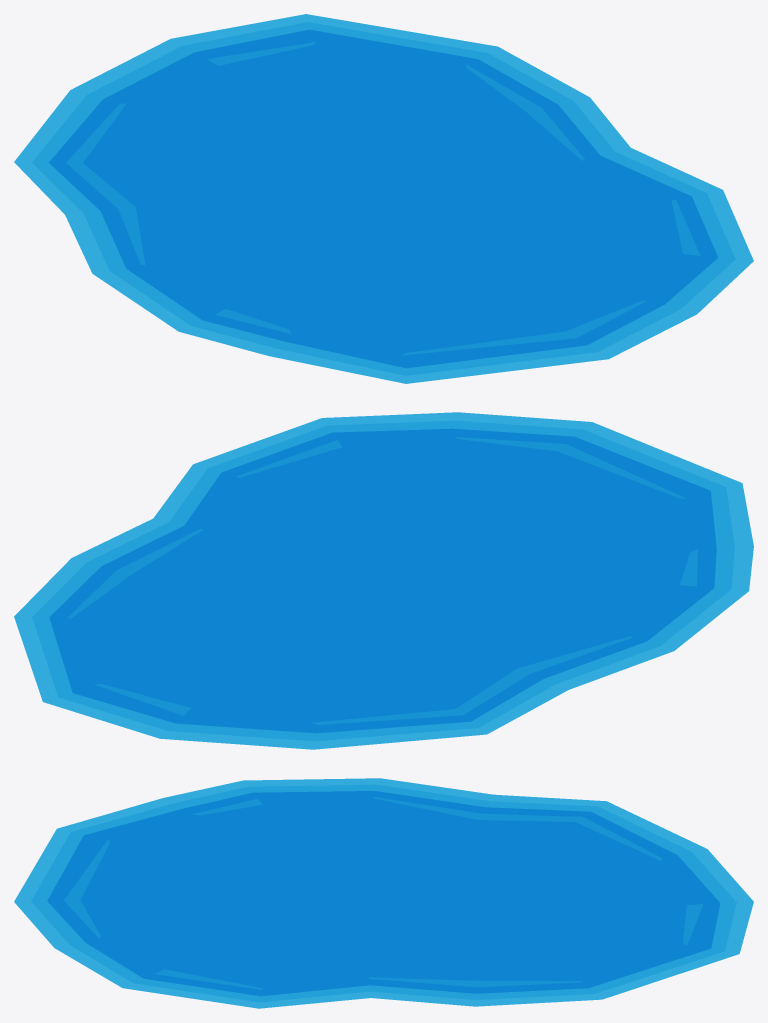
Rendered from Puddle_big.glb.
3 views of the same model, one above another, from view 1: azimuth 30°, elevation 25°; view 2: azimuth 150°, elevation 25°; view 3: azimuth 270°, elevation 25° (orthographic). The views are drawn at different scales.
Visible parts, largest first — view 1: Puddle_big; view 2: Puddle_big; view 3: Puddle_big.
Boxes of the visible parts, box(x1,y1,x2,y2) form: Puddle_big: box(14, 14, 753, 383); Puddle_big: box(14, 412, 753, 749); Puddle_big: box(14, 778, 753, 1008).
Bounding box in the file's own units: 2.42 × 7.29e-16 × 3.28.
1 material, 1 textured.
